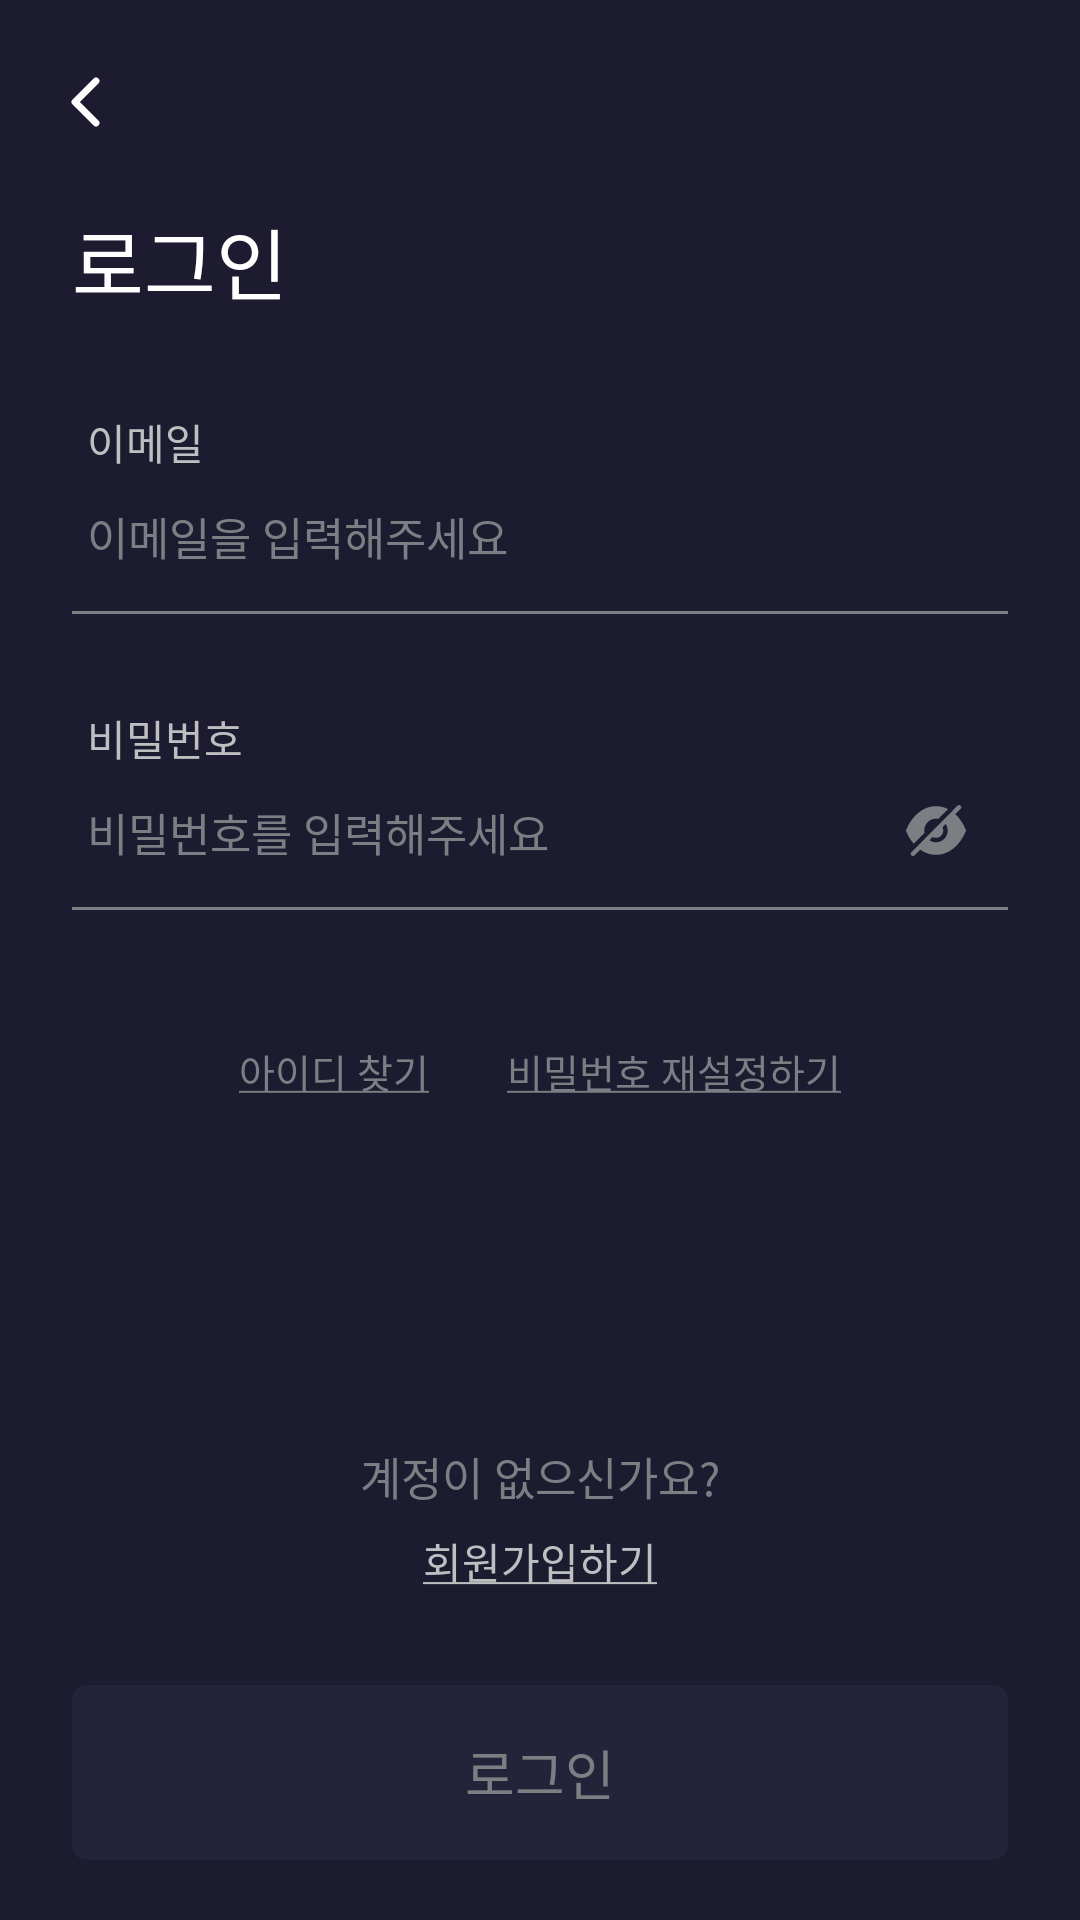

Point at icon controls on the screen. Image size 1080x1920, points as point (x, y).
arrow left: point (85, 102)
hide: point (936, 830)
